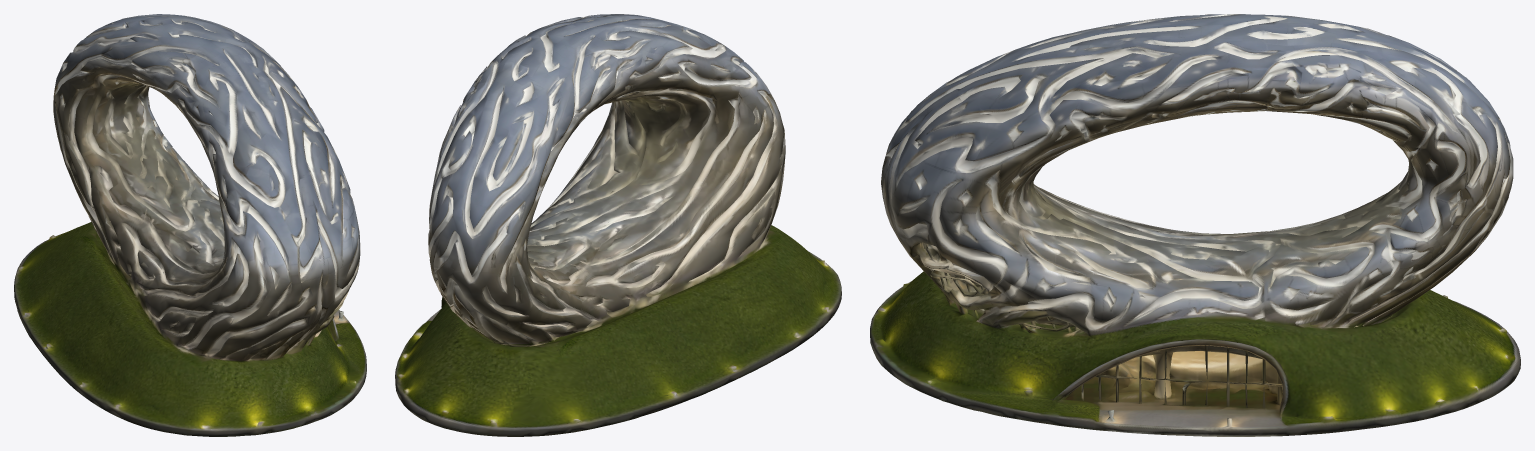
File: future_museum.glb
3 renders of one model, left to right at view 1: azimuth 30°, elevation 25°; view 2: azimuth 150°, elevation 25°; view 3: azimuth 270°, elevation 25°, orthographic. The views are drawn at different scales.
Visible parts, largest first — view 1: tripo_node_b864e33f-f6e8-42aa-9e32-270eb25ea4f7; view 2: tripo_node_b864e33f-f6e8-42aa-9e32-270eb25ea4f7; view 3: tripo_node_b864e33f-f6e8-42aa-9e32-270eb25ea4f7.
Boxes of the visible parts, x1,y1,x2,y2 form: tripo_node_b864e33f-f6e8-42aa-9e32-270eb25ea4f7: (14, 14, 366, 436); tripo_node_b864e33f-f6e8-42aa-9e32-270eb25ea4f7: (395, 14, 841, 436); tripo_node_b864e33f-f6e8-42aa-9e32-270eb25ea4f7: (870, 14, 1520, 436).
Size of the model in its own units: 0.6413 by 0.5934 by 1.
Materials: 1 (1 with a texture image).
